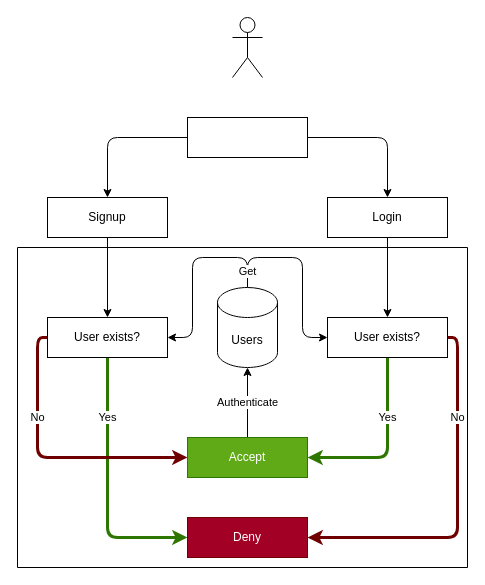
Image size: 485x585. Some labels were removed from this diagram. The shapes that lost their labels are listed below. From the top down, each one's centre as x and y in pixels, then its label:
At (x=247, y=47): "Actor".
At (x=247, y=137): "Select method".
At (x=242, y=407): "System Boundary".
